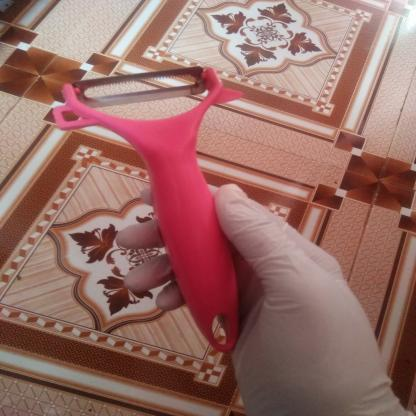gloved_hand: (112, 181, 406, 415)
